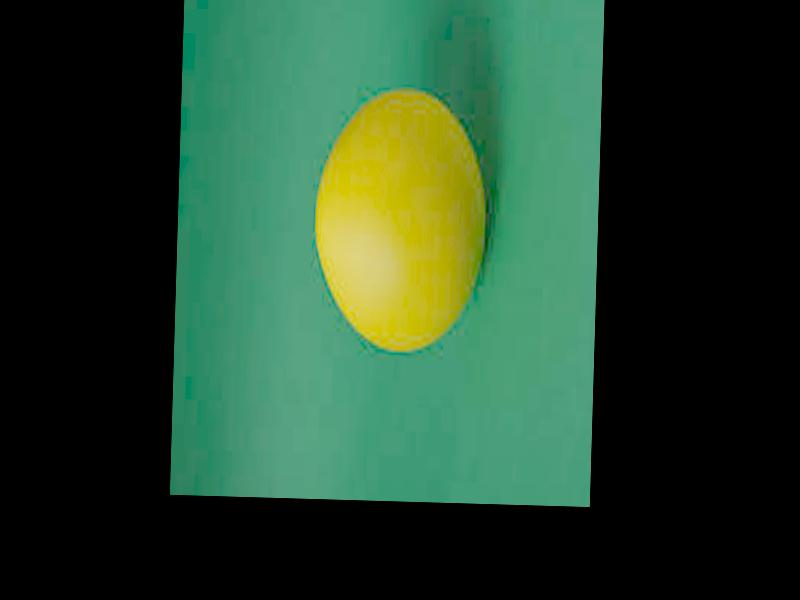Eggs: (310, 95, 490, 357)
